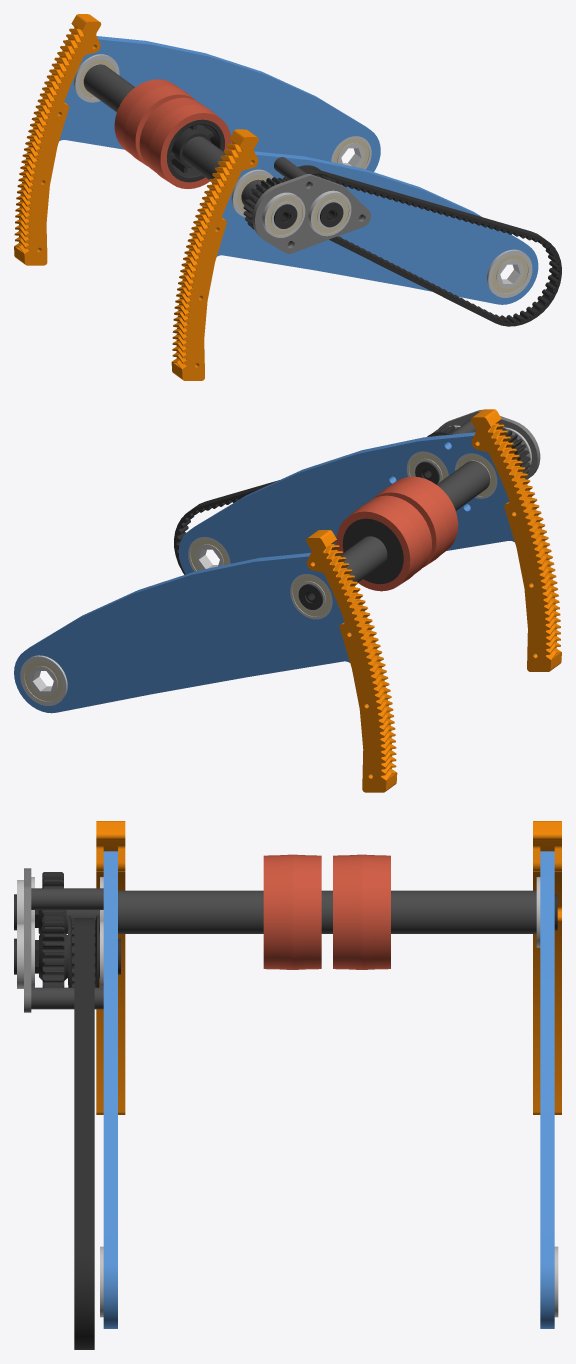
3 renders of one model, top to bottom at view 1: azimuth 30°, elevation 25°; view 2: azimuth 150°, elevation 25°; view 3: azimuth 270°, elevation 25°, orthographic. The views are drawn at different scales.
Parts seen in each view (by area): view 1: hood plate w control, hood plate w/o control, hood control gearpath (×2), 2" Stealth Wheel (40A, 1/2" Hex Bore) (×2), 1/2" Hex Bore Bearing (1.125" OD, 0.313" WD, Shielded, Flang (×6), 97T 5M 9mm Wide Belt, hood switchgear thing, hood roller spacer long (×2), 26t Steel Spur Gear (20 DP, 1/2" Hex Bore); view 2: hood plate w/o control, hood plate w control, hood control gearpath (×2), 2" Stealth Wheel (40A, 1/2" Hex Bore) (×2), 1/2" Hex Bore Bearing (1.125" OD, 0.313" WD, Shielded, Flang (×5), hood roller spacer long (×2), 97T 5M 9mm Wide Belt, hood switchgear thing; view 3: 2" Stealth Wheel (40A, 1/2" Hex Bore) (×2), hood roller spacer long (×2), 97T 5M 9mm Wide Belt, hood control gearpath (×2), hood plate w control, hood plate w/o control, hood switchgear spacer (×2), 26t Steel Spur Gear (20 DP, 1/2" Hex Bore) (×2), hood switchgear thing, 20t Aluminum Pulley (HTD 5mm, 9mm Wide, 1/2" Hex Bore), 1/2" Hex Bore Bearing (1.125" OD, 0.313" WD, Shielded, Flang.
Part boxes in pixels (x1,y1,x2,y2): hood plate w control: (195, 151, 538, 365); hood plate w/o control: (37, 36, 380, 249); hood control gearpath (×2): (14, 14, 258, 380); 2" Stealth Wheel (40A, 1/2" Hex Bore) (×2): (114, 79, 231, 188); 1/2" Hex Bore Bearing (1.125" OD, 0.313" WD, Shielded, Flang (×6): (74, 54, 532, 297); 97T 5M 9mm Wide Belt: (286, 168, 561, 326); hood switchgear thing: (252, 174, 370, 253); hood roller spacer long (×2): (84, 64, 225, 179); 26t Steel Spur Gear (20 DP, 1/2" Hex Bore): (243, 177, 285, 229); hood plate w/o control: (14, 553, 372, 776); hood plate w control: (178, 432, 537, 655); hood control gearpath (×2): (306, 409, 561, 792); 2" Stealth Wheel (40A, 1/2" Hex Bore) (×2): (336, 476, 458, 591); 1/2" Hex Bore Bearing (1.125" OD, 0.313" WD, Shielded, Flang (×5): (20, 451, 497, 705); hood roller spacer long (×2): (340, 461, 490, 582); 97T 5M 9mm Wide Belt: (174, 435, 441, 574); hood switchgear thing: (438, 409, 540, 479); 2" Stealth Wheel (40A, 1/2" Hex Bore) (×2): (263, 854, 390, 969); hood roller spacer long (×2): (118, 890, 536, 933); 97T 5M 9mm Wide Belt: (74, 918, 94, 1349); hood control gearpath (×2): (96, 821, 561, 1114); hood plate w control: (103, 851, 117, 1328); hood plate w/o control: (540, 851, 554, 1328); hood switchgear spacer (×2): (31, 888, 103, 1009); 26t Steel Spur Gear (20 DP, 1/2" Hex Bore) (×2): (38, 872, 67, 987); hood switchgear thing: (24, 868, 31, 1012); 20t Aluminum Pulley (HTD 5mm, 9mm Wide, 1/2" Hex Bore): (67, 915, 99, 987); 1/2" Hex Bore Bearing (1.125" OD, 0.313" WD, Shielded, Flang: (17, 921, 34, 988).
Size of the model in its own units: 0.2616 by 0.166 by 0.2409.
